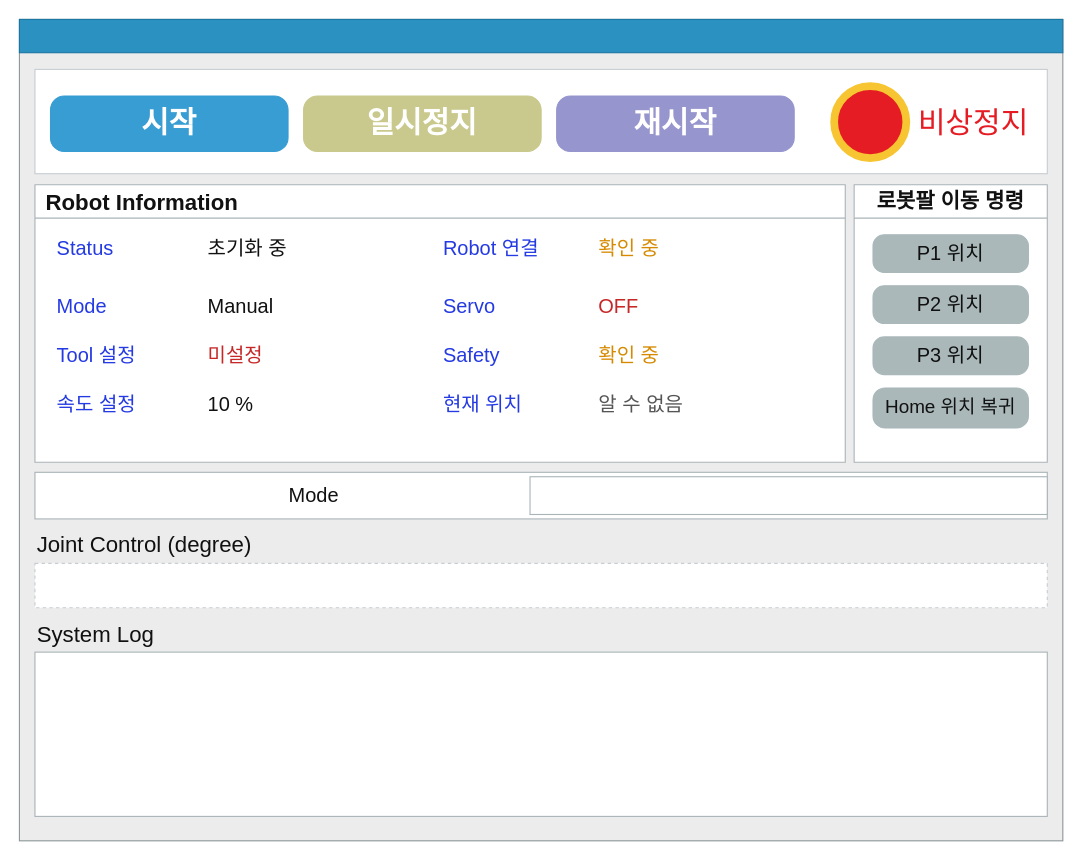
This 1082x860 diagram has some shape labels left out. The shapes that lost their labels are listed below. From the top down, each one's centre as x and y in pixels, then its label:
At (540,35): "Cobot Robot Control Panel".
At (870,122): "STOP".
At (788,495): "Manual ▼".
At (540,585): "Manual 모드에서 Joint 제어 항목 표시".
At (540,733): "[14:27:31] HMI 프로그램 시작 [14:27:31] Robot 연결 확인 중 [14:27:32] Tool 설정을 확인해 주세요".
